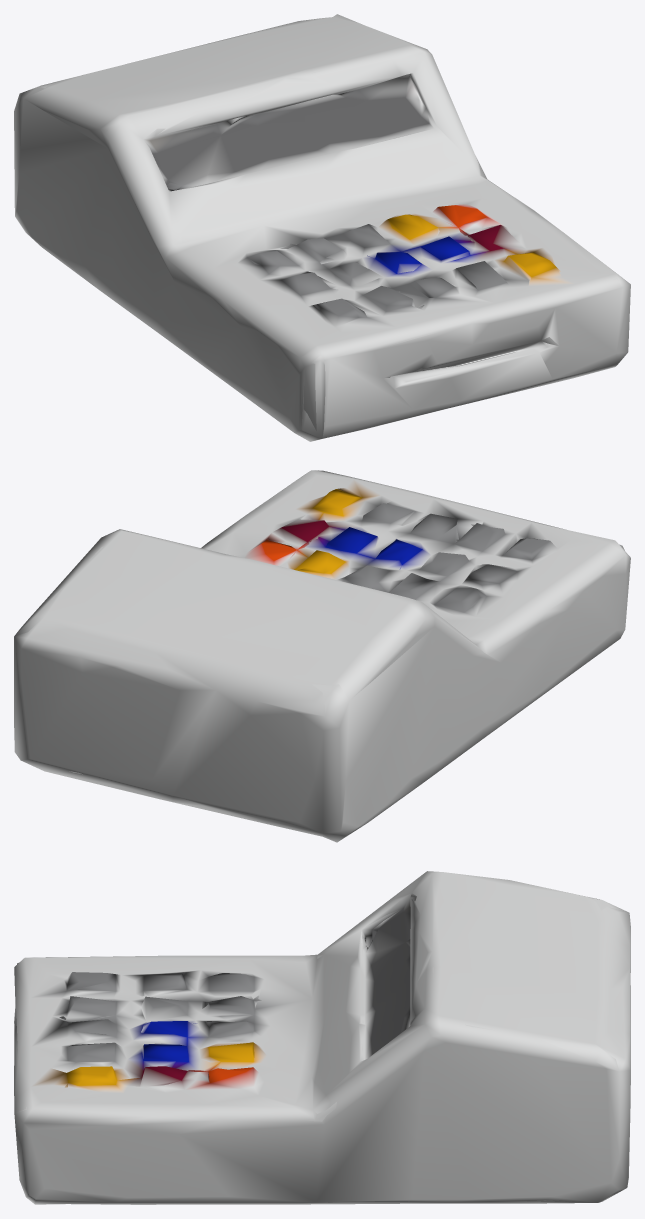
The model's file is gen3d-cash-register-lod0.glb.
3 views of the same model, one above another, from view 1: azimuth 30°, elevation 25°; view 2: azimuth 150°, elevation 25°; view 3: azimuth 270°, elevation 25° (orthographic). The views are drawn at different scales.
Parts seen in each view (by area): view 1: part_0; view 2: part_0; view 3: part_0.
Part boxes in pixels (left/top/right/bottom): part_0: left=14, top=14, right=630, bottom=441; part_0: left=14, top=470, right=630, bottom=842; part_0: left=14, top=871, right=630, bottom=1204.
Bounding box in the file's own units: 1.89 × 1 × 3.01.
